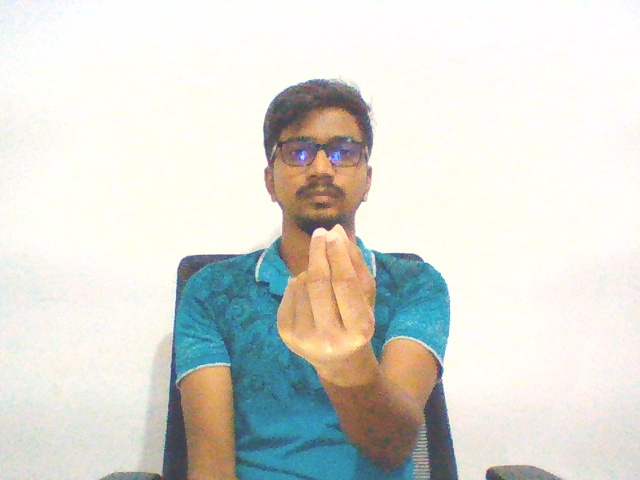dog: (258, 209, 395, 385)
